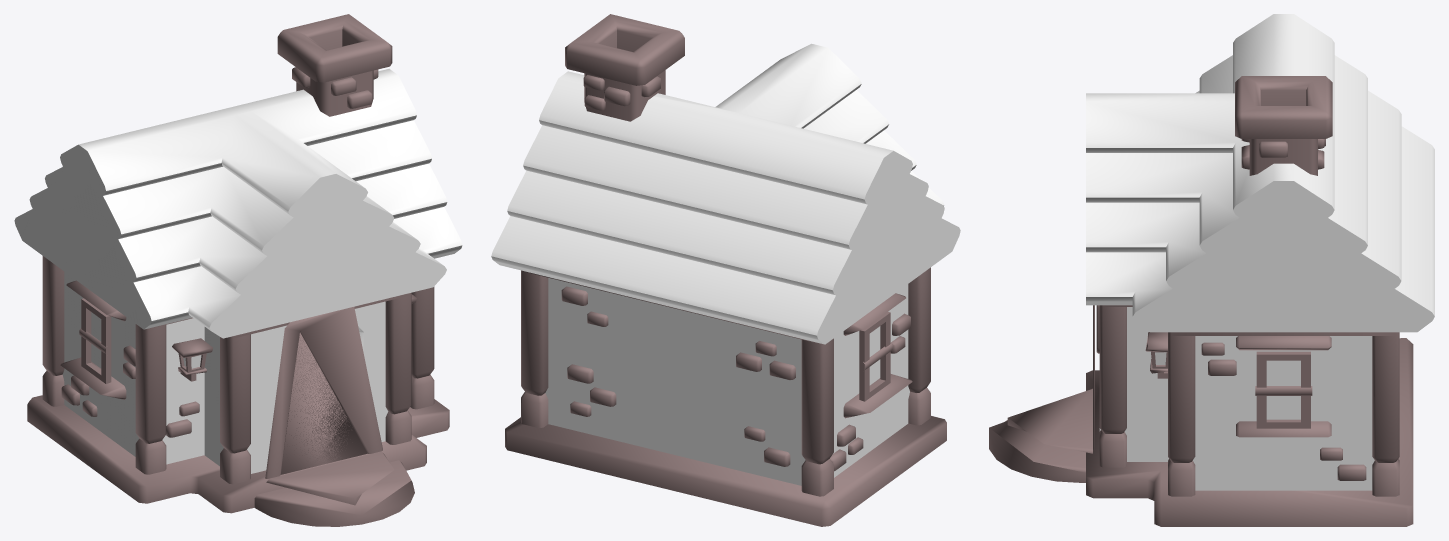
File: family-house.lod.glb
The picture shows the model from 3 angles, left to right: view 1: azimuth 30°, elevation 25°; view 2: azimuth 150°, elevation 25°; view 3: azimuth 270°, elevation 25°; orthographic projection. The views are drawn at different scales.
Visible parts, largest first — view 1: house; view 2: house; view 3: house.
Boxes of the visible parts, bbox=[...] form: house: bbox=[14, 14, 462, 526]; house: bbox=[491, 14, 960, 526]; house: bbox=[989, 14, 1434, 526].
Bounding box in the file's own units: 5.9 × 6.5 × 6.54.
1 material, 1 textured.
